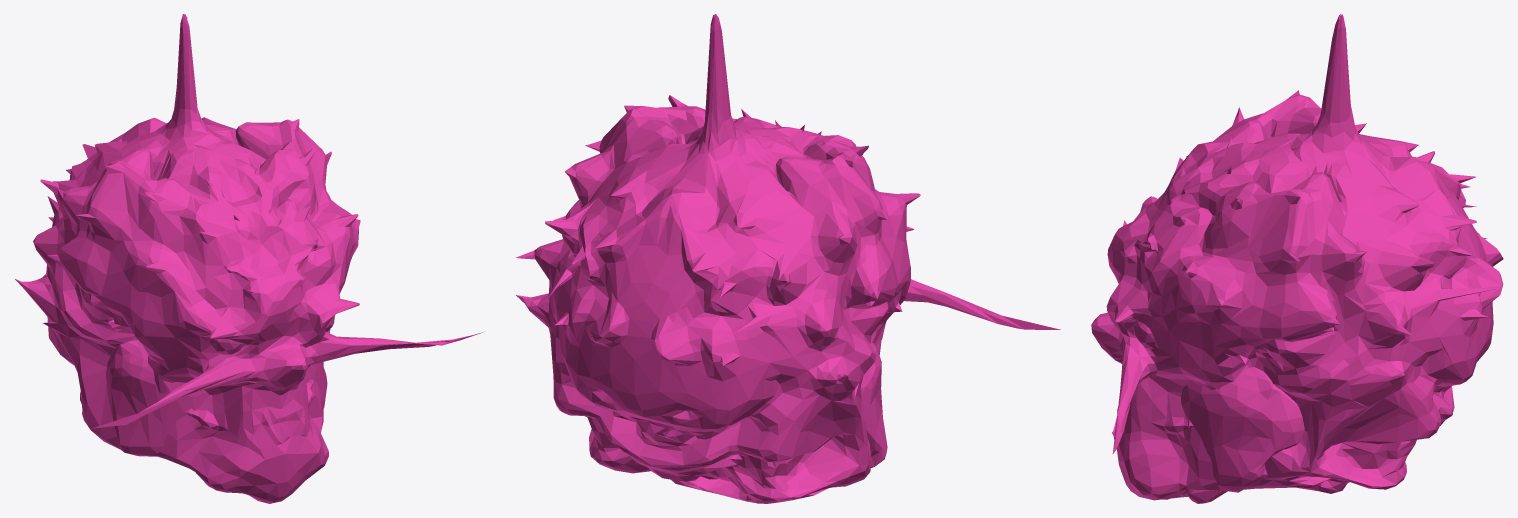
3 renders of one model, left to right at view 1: azimuth 30°, elevation 25°; view 2: azimuth 150°, elevation 25°; view 3: azimuth 270°, elevation 25°, orthographic. The views are drawn at different scales.
Parts seen in each view (by area): view 1: Eye_R.001_Sphere.004; view 2: Eye_R.001_Sphere.004; view 3: Eye_R.001_Sphere.004.
Boxes of the visible parts, left/top/right/bottom form: Eye_R.001_Sphere.004: left=15, top=14, right=483, bottom=503; Eye_R.001_Sphere.004: left=516, top=14, right=1060, bottom=503; Eye_R.001_Sphere.004: left=1091, top=14, right=1503, bottom=503.
Size of the model in its own units: 285 by 294 by 228.
